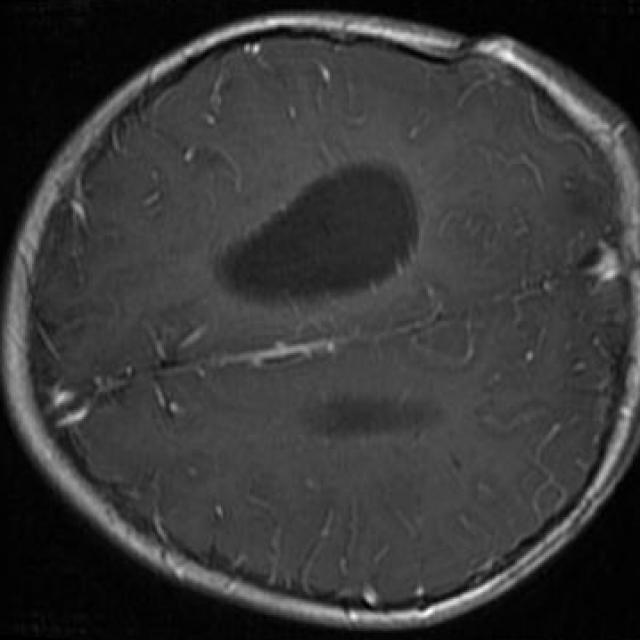glioma: (212, 159, 421, 303)
